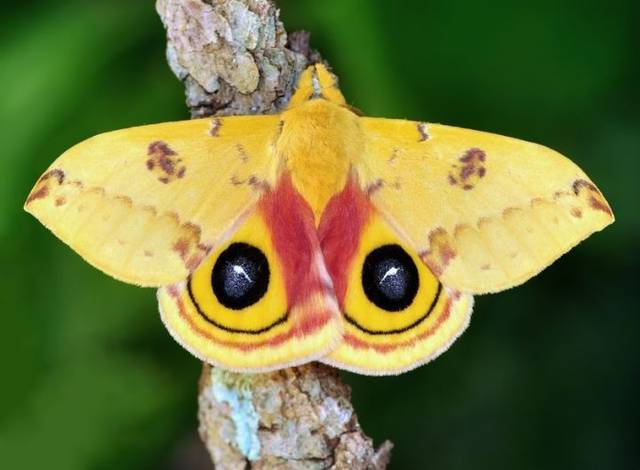feie: (42, 56, 609, 381)
